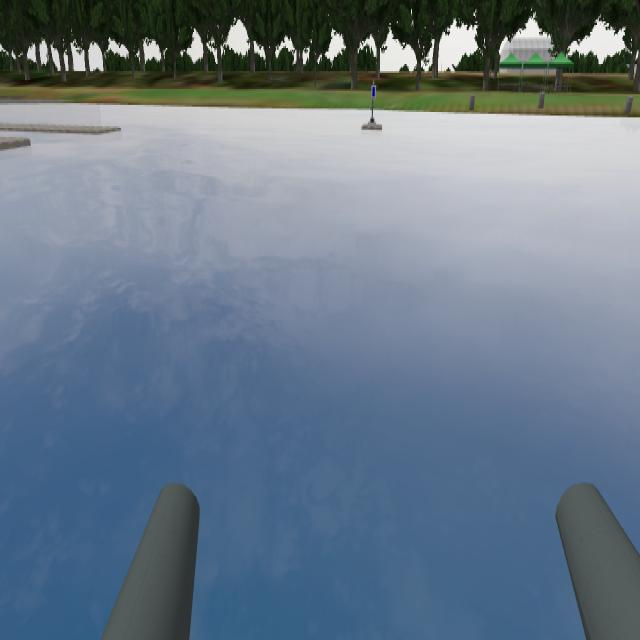blue_pole: (365, 76, 386, 104)
